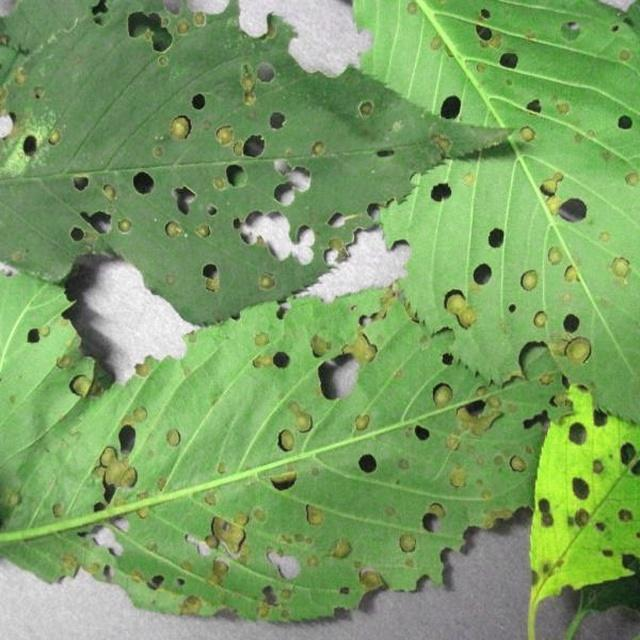shot_hole: (0, 312, 640, 640), (0, 0, 424, 313), (217, 10, 640, 323), (495, 359, 640, 640)
